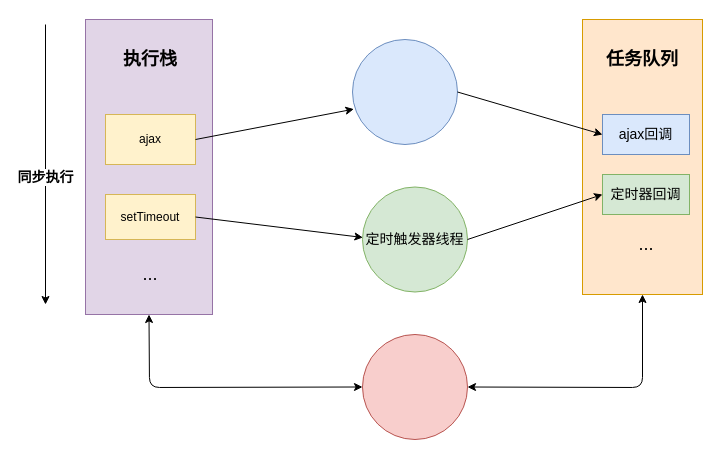
This 720x457 diagram has some shape labels left out. The centre of each missing label's shape, as x and y in pixels:
http请求线程: (x=405, y=91)
事件触发线程: (x=415, y=387)
